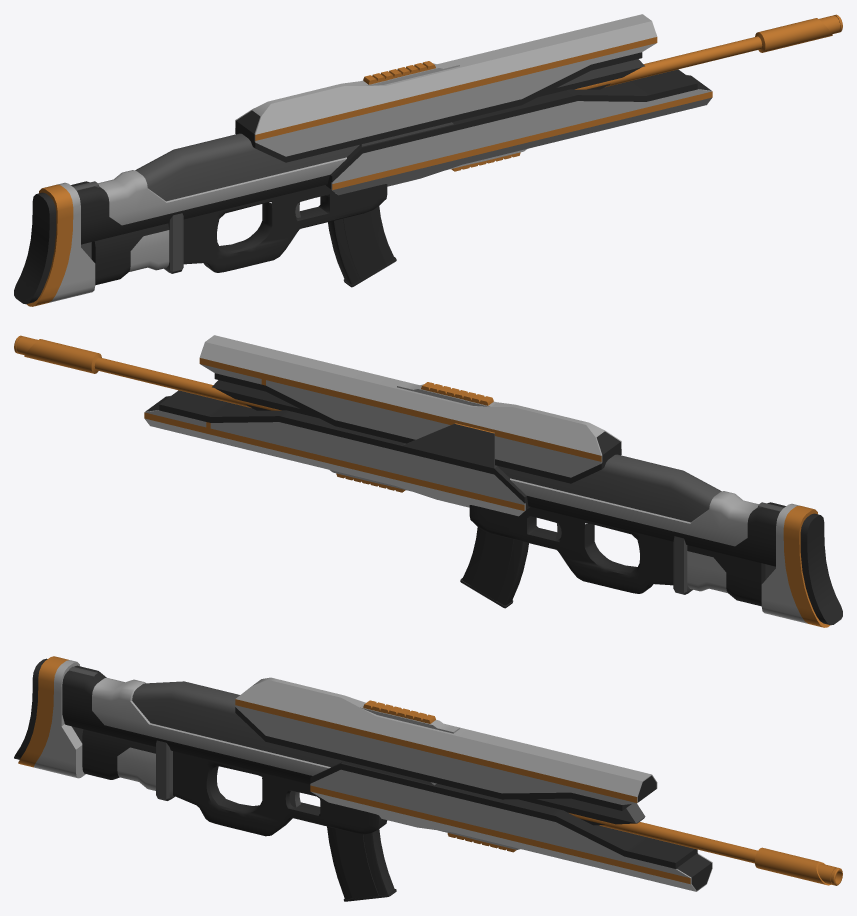
Rendered from Sniper_1.glb.
3 renders of one model, top to bottom at view 1: azimuth 30°, elevation 25°; view 2: azimuth 150°, elevation 25°; view 3: azimuth 330°, elevation 25°, orthographic.
Parts seen in each view (by area): view 1: Sniper_1, Magazine_Sniper; view 2: Sniper_1, Magazine_Sniper; view 3: Sniper_1, Magazine_Sniper.
Part boxes in pixels (x1=…): Sniper_1: x1=14, y1=14, x2=842, y2=306; Magazine_Sniper: x1=328, y1=206, x2=396, y2=287; Sniper_1: x1=14, y1=335, x2=842, y2=627; Magazine_Sniper: x1=460, y1=527, x2=528, y2=608; Sniper_1: x1=14, y1=656, x2=842, y2=891; Magazine_Sniper: x1=327, y1=826, x2=396, y2=901.
Size of the model in its own units: 2.22 by 0.5221 by 0.1029.
